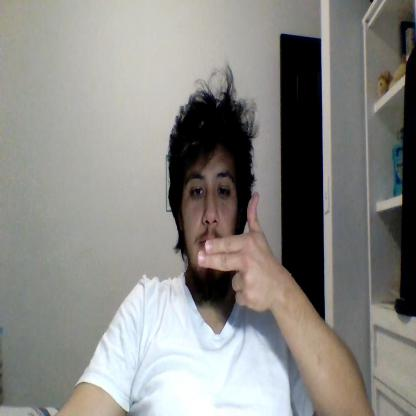H: (198, 193, 272, 309)
